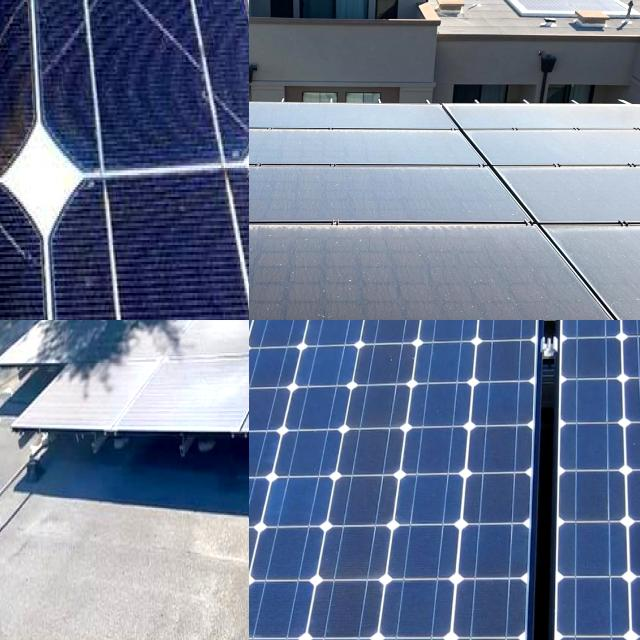crack: (249, 320, 527, 640), (545, 320, 640, 640)
dust: (249, 237, 591, 317), (249, 167, 500, 213), (157, 363, 236, 420), (249, 230, 288, 319), (249, 167, 304, 206), (47, 388, 109, 414), (204, 320, 249, 353)
shadow: (0, 0, 97, 189)
